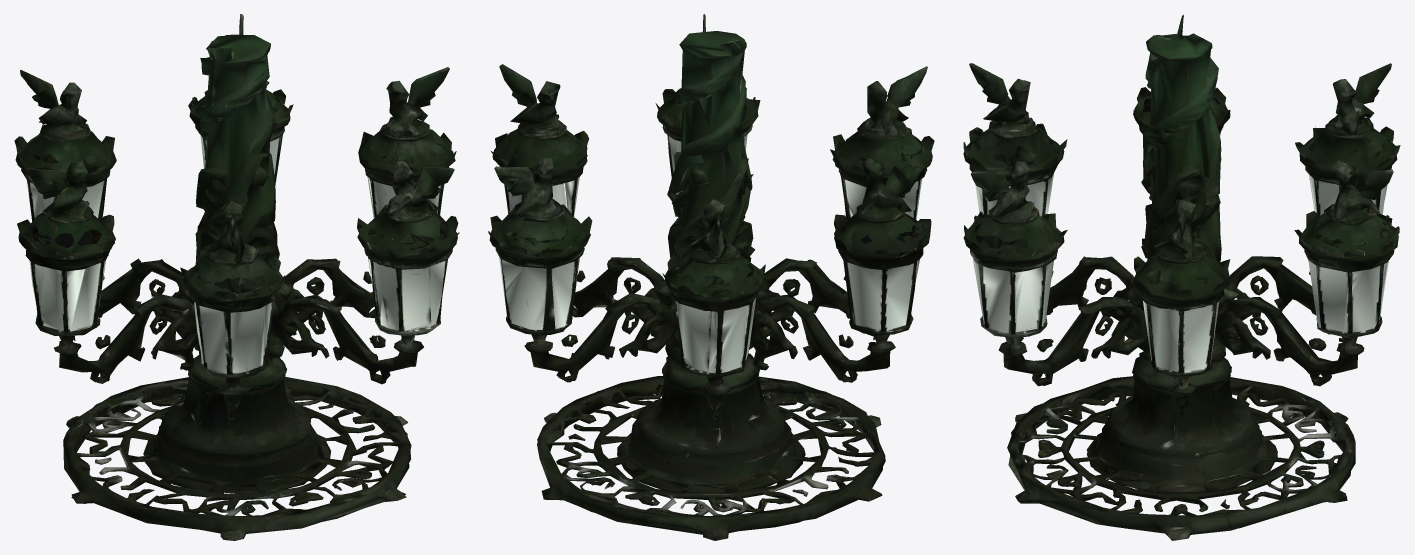
Rendered from barcelona-fanal.glb.
The picture shows the model from 3 angles, left to right: view 1: azimuth 30°, elevation 25°; view 2: azimuth 150°, elevation 25°; view 3: azimuth 270°, elevation 25°; orthographic projection.
Parts seen in each view (by area): view 1: geometry_0; view 2: geometry_0; view 3: geometry_0.
Part boxes in pixels (x1,y1,x2,y2): geometry_0: [14, 14, 459, 540]; geometry_0: [488, 14, 934, 540]; geometry_0: [963, 14, 1400, 540].
Bounding box in the file's own units: 1 × 0.9426 × 0.8915.
Materials: 1 (1 with a texture image).
